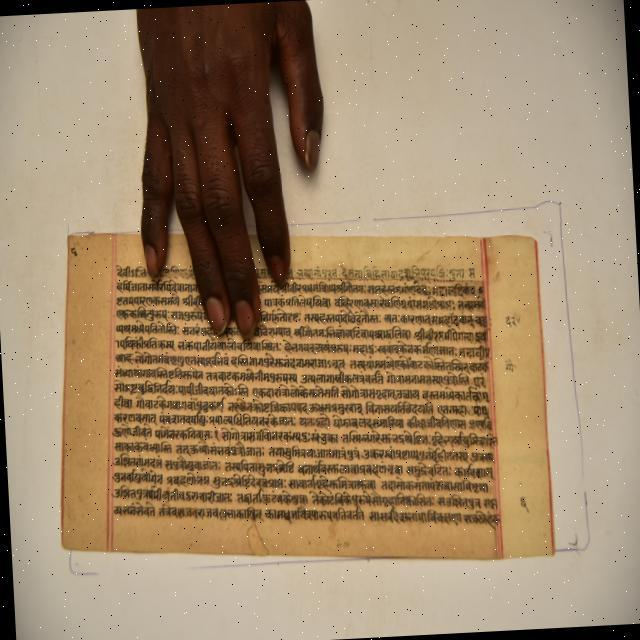text_paragraph: (61, 235, 555, 559)
